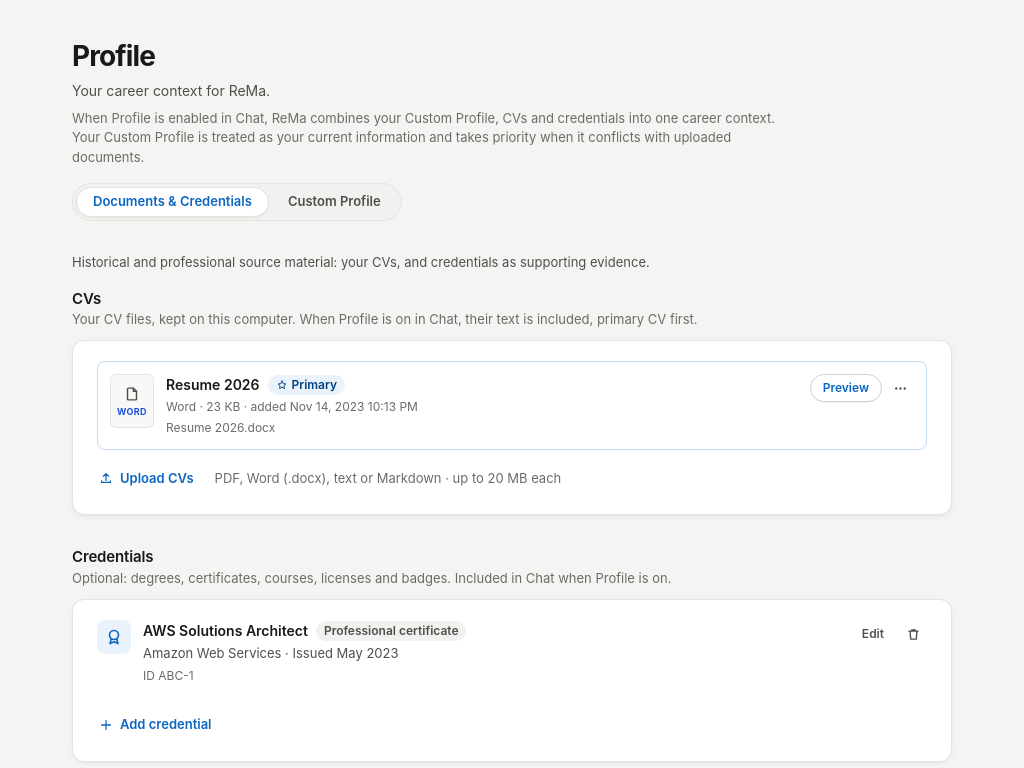
Test: Profile › previews a document in place; closing keeps the section
Click the button "Preview".
click(846, 388)  # box [810,374,882,402]
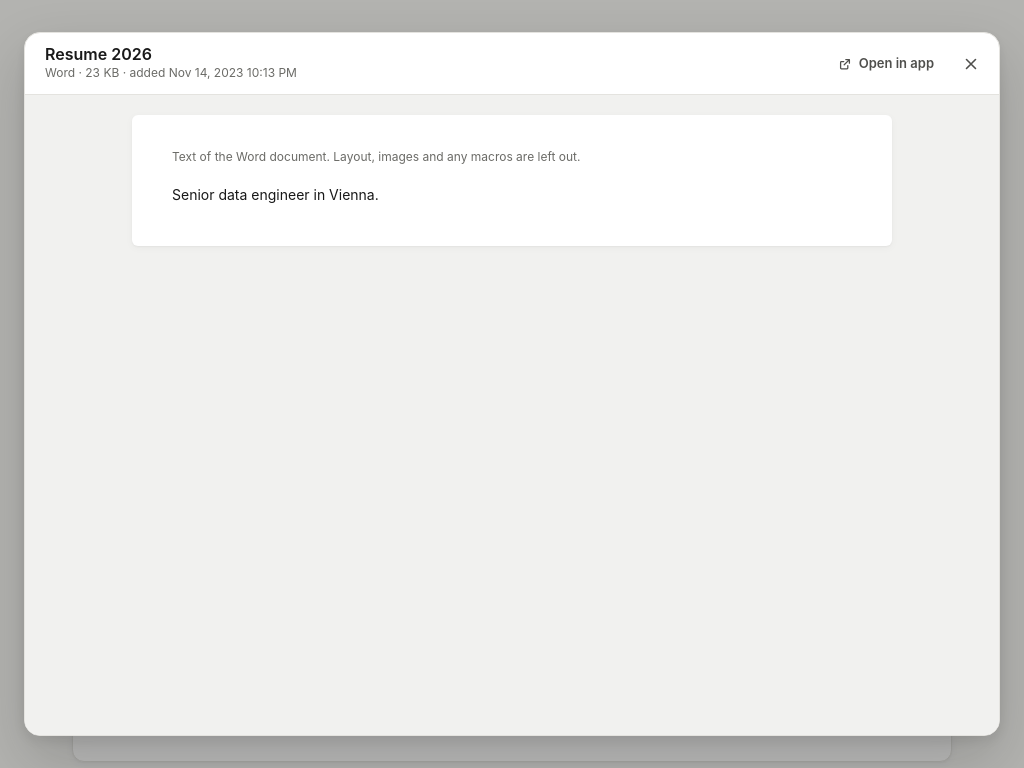
Now the text "Senior data engineer in Vienna." is shown, box [172,186,379,203]
Click the button named "Close preview".
click(971, 64)  # box [955,48,987,80]
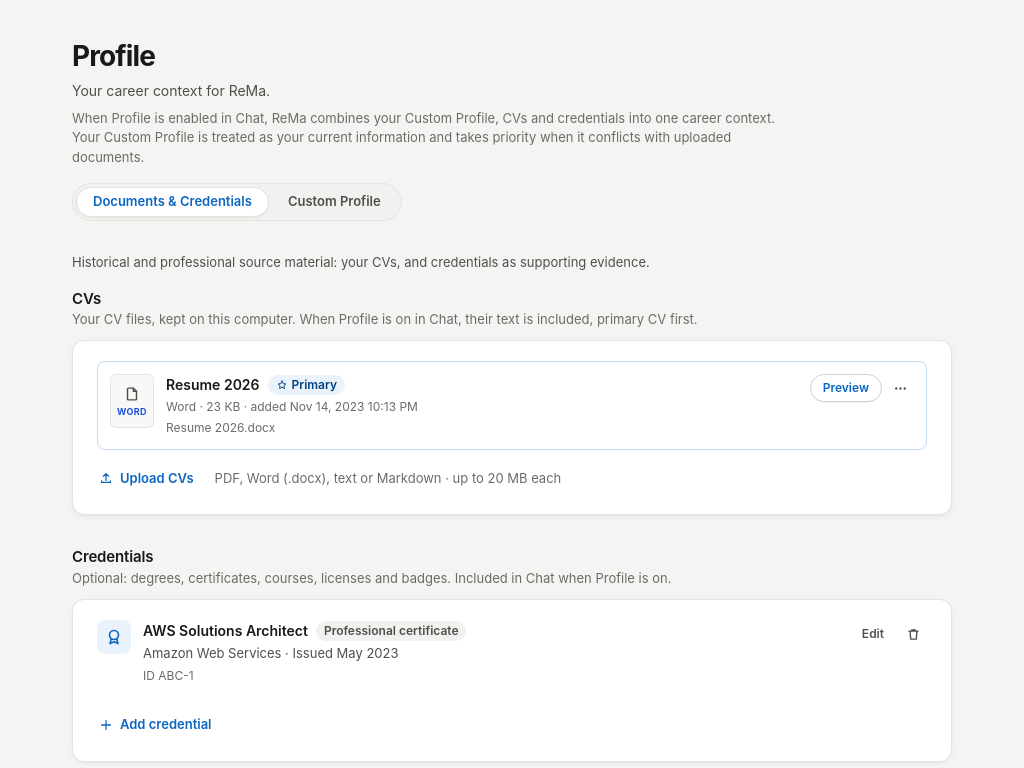
Now the dialog is gone
